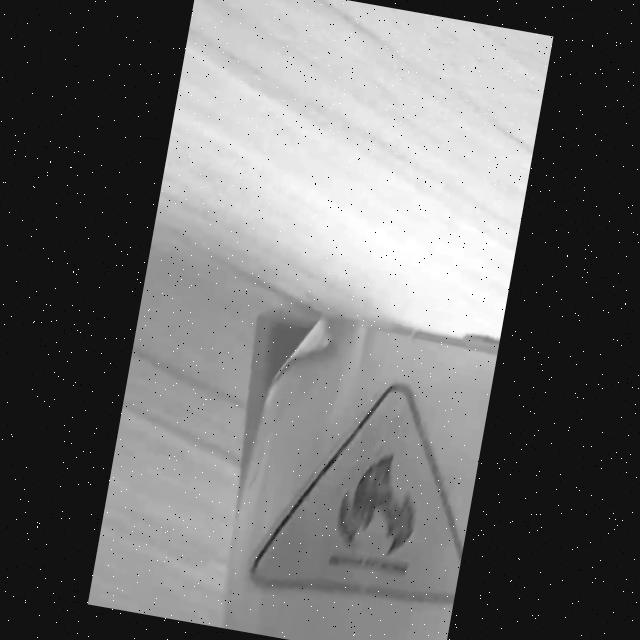Fire: (252, 384, 463, 604)
